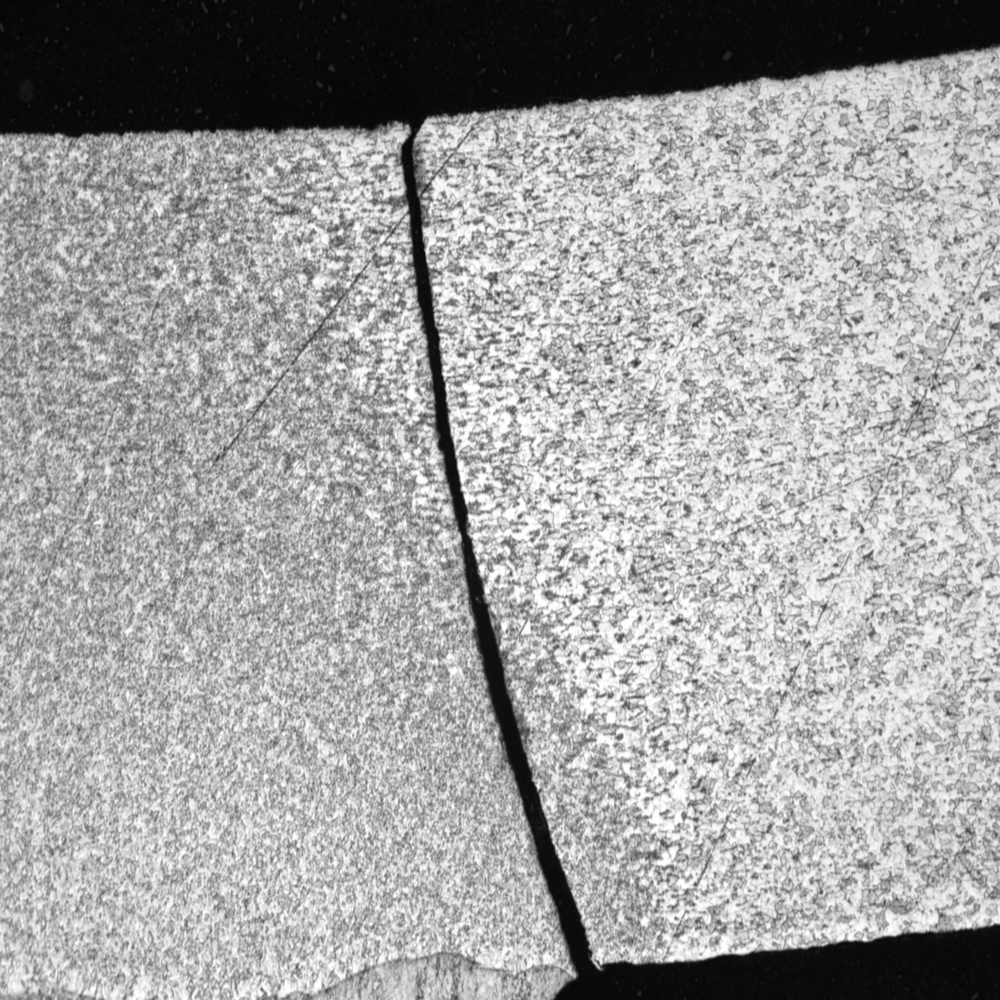crack: (371, 109, 642, 985)
